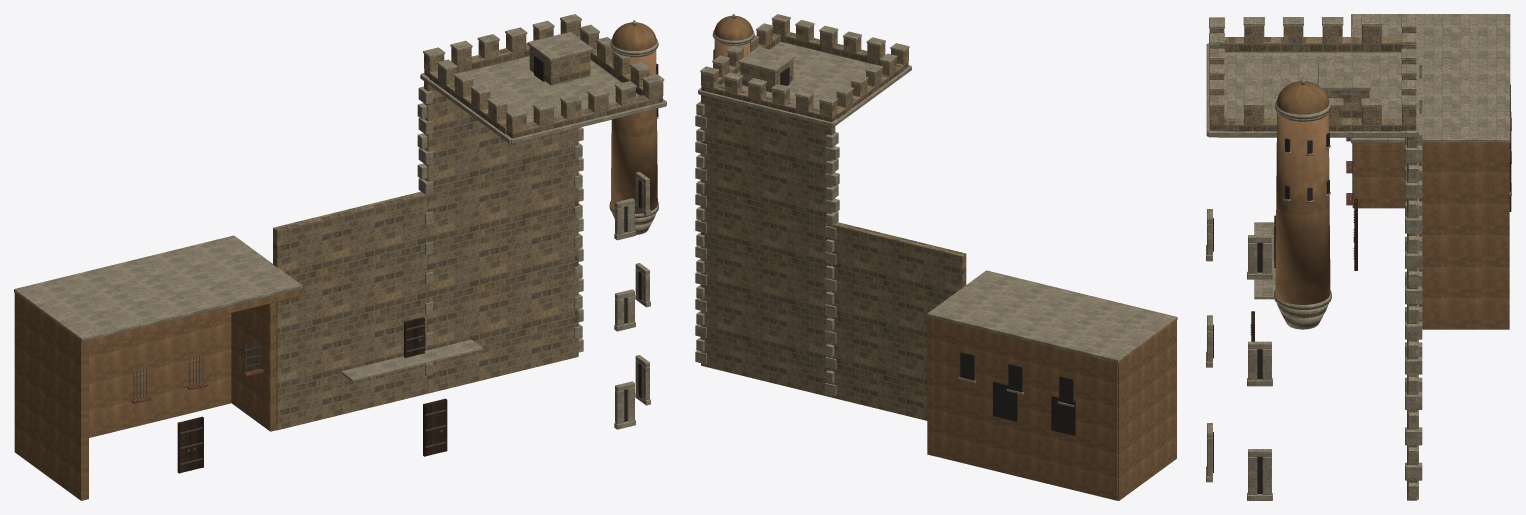
File: fortress_architecture.glb
The picture shows the model from 3 angles, left to right: view 1: azimuth 30°, elevation 25°; view 2: azimuth 150°, elevation 25°; view 3: azimuth 270°, elevation 25°; orthographic projection. The views are drawn at different scales.
Parts seen in each view (by area): view 1: Arch_Keep_Battlements_Stone, Arch_Keep_Ashlar_Caps_And_Plaques, Arch_Ochre_Wing_Rear_And_Roof, Arch_Watchtower_Turret_Shaft_Dome, Arch_Colonial_Timber_Doors, Arch_Bastion_Limestone_Coping, Arch_Wrought_Iron_Hardware_And_Rejas, Arch_Keep_Slit_Recesses, Arch_Watchtower_Turret_Corbel_Trim; view 2: Arch_Keep_Battlements_Stone, Arch_Ochre_Wing_Rear_And_Roof, Arch_Keep_Ashlar_Caps_And_Plaques, Arch_Keep_Slit_Recesses, Arch_Watchtower_Turret_Shaft_Dome; view 3: Arch_Keep_Ashlar_Caps_And_Plaques, Arch_Ochre_Wing_Rear_And_Roof, Arch_Watchtower_Turret_Shaft_Dome, Arch_Keep_Battlements_Stone, Arch_Watchtower_Turret_Corbel_Trim, Arch_Keep_Slit_Recesses, Arch_Bastion_Limestone_Coping, Arch_Colonial_Timber_Doors, Arch_Watchtower_Turret_Slits.
Part boxes in pixels (left/top/right/bottom): Arch_Keep_Battlements_Stone: left=273, top=20, right=663, bottom=430; Arch_Keep_Ashlar_Caps_And_Plaques: left=14, top=14, right=666, bottom=429; Arch_Ochre_Wing_Rear_And_Roof: left=14, top=289, right=300, bottom=500; Arch_Watchtower_Turret_Shaft_Dome: left=610, top=22, right=657, bottom=213; Arch_Colonial_Timber_Doors: left=177, top=317, right=447, bottom=473; Arch_Bastion_Limestone_Coping: left=341, top=339, right=483, bottom=381; Arch_Wrought_Iron_Hardware_And_Rejas: left=132, top=324, right=446, bottom=464; Arch_Keep_Slit_Recesses: left=534, top=55, right=641, bottom=421; Arch_Watchtower_Turret_Corbel_Trim: left=609, top=20, right=658, bottom=234; Arch_Keep_Battlements_Stone: left=701, top=20, right=966, bottom=420; Arch_Ochre_Wing_Rear_And_Roof: left=927, top=316, right=1176, bottom=500; Arch_Keep_Ashlar_Caps_And_Plaques: left=695, top=14, right=1177, bottom=407; Arch_Keep_Slit_Recesses: left=780, top=67, right=1075, bottom=435; Arch_Watchtower_Turret_Shaft_Dome: left=714, top=15, right=752, bottom=59; Arch_Keep_Ashlar_Caps_And_Plaques: left=1206, top=14, right=1511, bottom=500; Arch_Ochre_Wing_Rear_And_Roof: left=1352, top=141, right=1509, bottom=329; Arch_Watchtower_Turret_Shaft_Dome: left=1275, top=81, right=1330, bottom=304; Arch_Keep_Battlements_Stone: left=1209, top=25, right=1417, bottom=500; Arch_Watchtower_Turret_Corbel_Trim: left=1274, top=78, right=1331, bottom=329; Arch_Keep_Slit_Recesses: left=1213, top=84, right=1511, bottom=493; Arch_Bastion_Limestone_Coping: left=1254, top=222, right=1275, bottom=299; Arch_Colonial_Timber_Doors: left=1251, top=198, right=1357, bottom=341; Arch_Watchtower_Turret_Slits: left=1285, top=132, right=1329, bottom=200.
Size of the model in its own units: 33.02 by 20.88 by 13.52.
7 materials, 5 textured.
